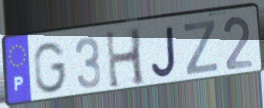2: (221, 14, 256, 72)
3: (74, 35, 102, 90)
G: (32, 41, 69, 96)
H: (104, 26, 147, 92)
J: (150, 25, 178, 79)
Z: (182, 18, 219, 77)
